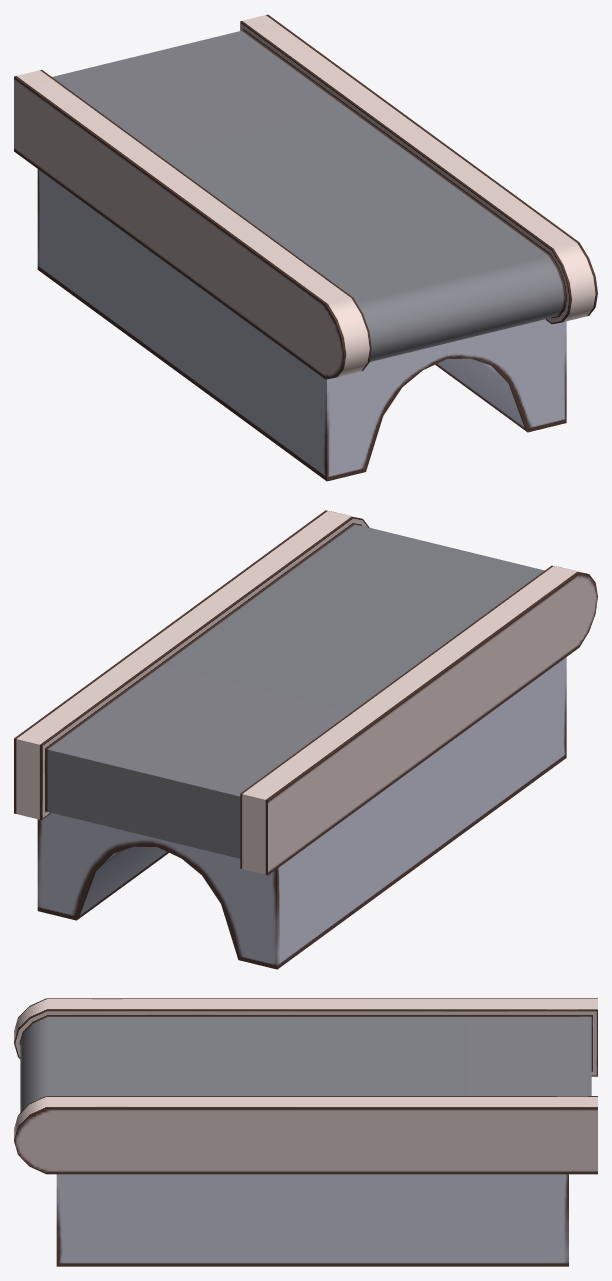
File: Conveyor belt.fbx
The picture shows the model from 3 angles, top to bottom: view 1: azimuth 30°, elevation 25°; view 2: azimuth 150°, elevation 25°; view 3: azimuth 270°, elevation 25°; orthographic projection. The views are drawn at different scales.
Visible parts, largest first — view 1: Conveyor_belt; view 2: Conveyor_belt; view 3: Conveyor_belt.
Part boxes in pixels (x1=…): Conveyor_belt: x1=14, y1=14, x2=597, y2=481; Conveyor_belt: x1=14, y1=510, x2=597, y2=969; Conveyor_belt: x1=14, y1=998, x2=597, y2=1266.
Size of the model in its own units: 0.5859 by 0.4032 by 1.32.
Materials: 1 (1 with a texture image).
